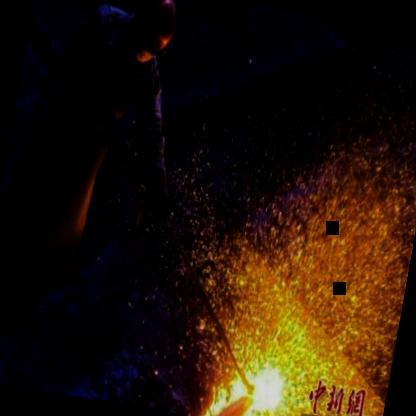helmet: (124, 0, 183, 62)
